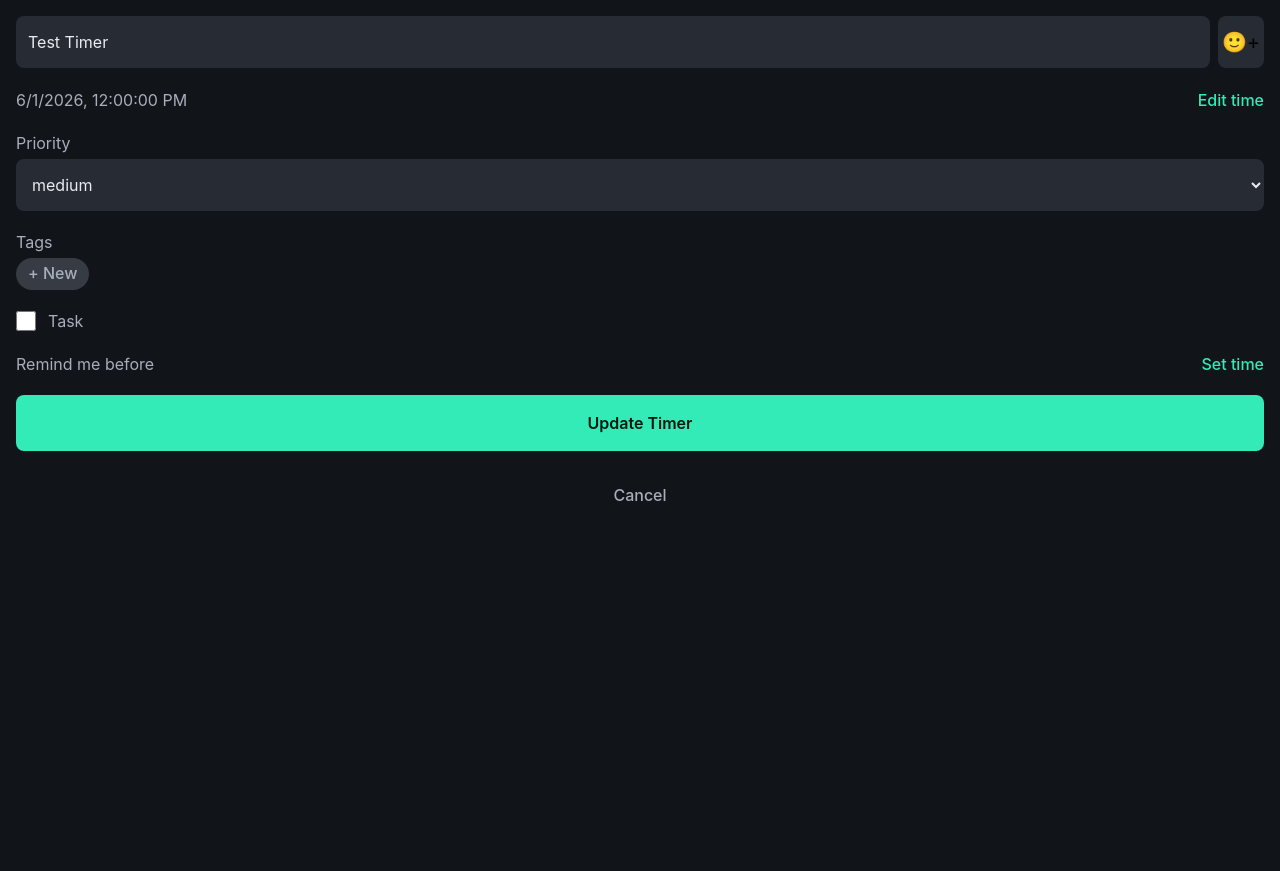
Test: EditTimerView — Recurring mode › editing a timer with recurrenceRule opens in Recurring mode after unlocking
What coordinates should you click on to do the following:
click the button "Edit time"
I would click on:
 (1231, 100)
Its box is [1198,89,1264,111].
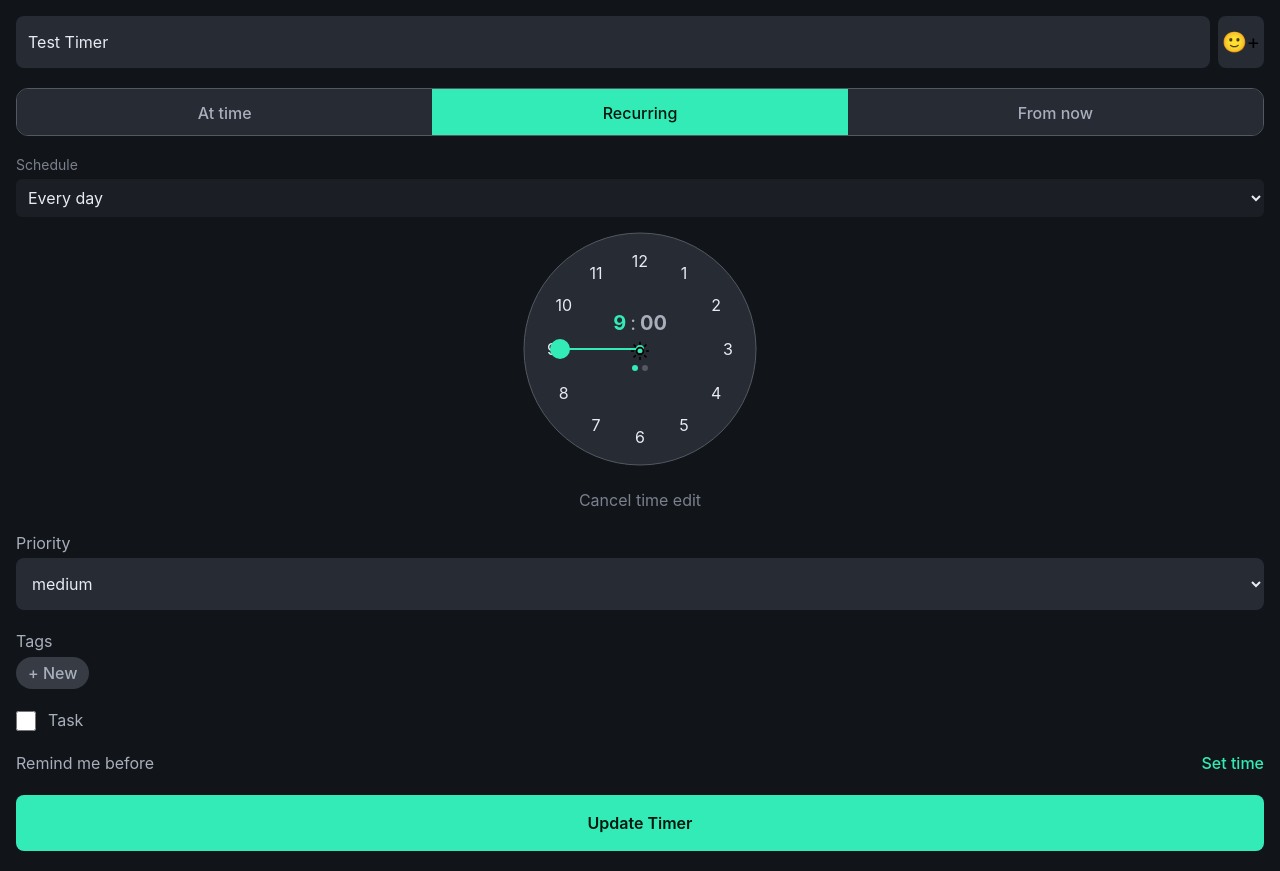
Result: the dropdown named "schedule" shows "Every day" at [16,179,1264,217]
